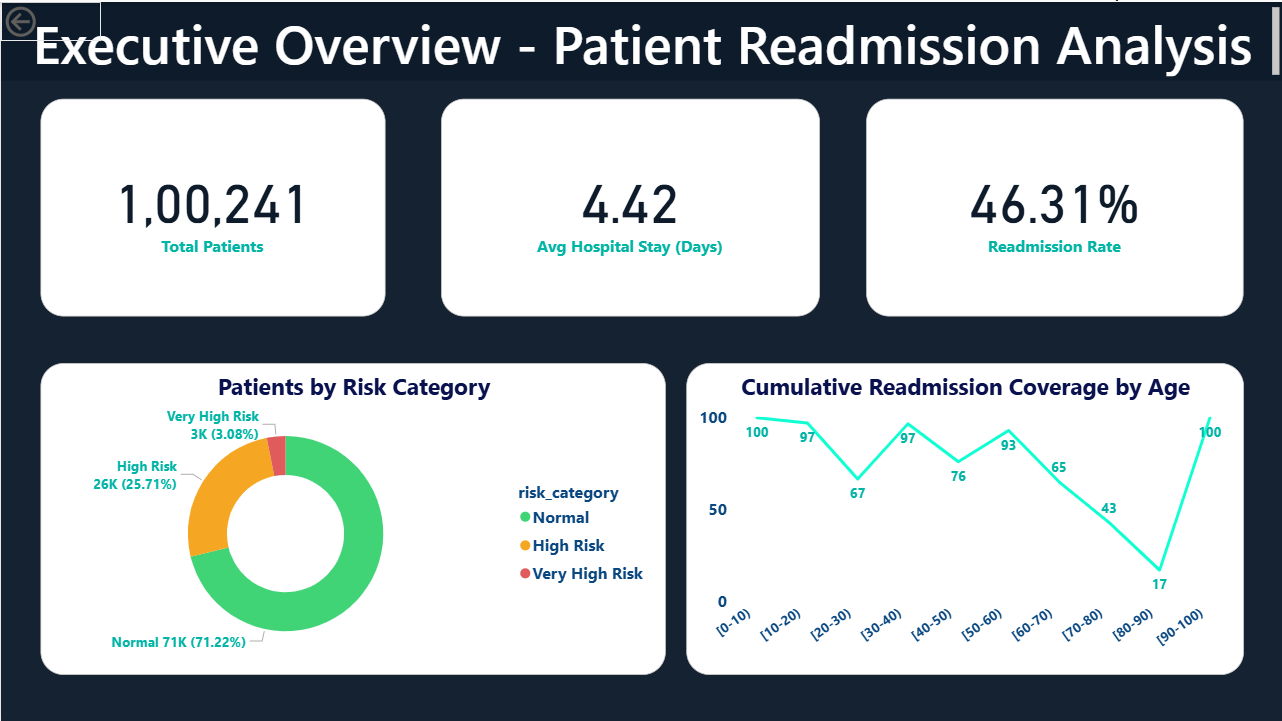

Layout of this report page (visuals, bound fields, positions):
{"tool":"powerbi","page":{"name":" Executive Overview","canvas":[1280,720],"ordinal":0},"visuals":[{"type":"card","fields":{"Values":["Avg(diabetic_data_clean.time_in_hospital)"]},"box":[439.1,96.5,377.9,217.5],"z":0},{"type":"card","fields":{"Values":["diabetic_data_clean.Readmission Rate"]},"box":[863.2,96.5,376.6,217.5],"z":1000},{"type":"card","fields":{"Values":["select","CountNonNull(diabetic_data_clean.gender)"]},"box":[39.4,96.5,343.9,217.5],"z":2000},{"type":"textbox","box":[0,0,1280.6,78.8],"z":3000},{"type":"donutChart","title":"Patients by Risk Category","fields":{"Category":["q4_risk_segmentation.risk_category"],"Y":["Sum(q4_risk_segmentation.total_patients)"]},"box":[39.4,360.2,624,311.3],"z":4000},{"type":"actionButton","box":[0,0,100,40],"z":5000},{"type":"lineChart","title":"Cumulative Readmission Coverage by Age","fields":{"Category":["q5_cumulative_age.age"],"Y":["Sum(q5_cumulative_age.cumulative_patient_pct)"]},"box":[683.8,360.2,556,311.3],"z":6000}]}

Visuals, with their boxes on the page's 1280x720 design canvas (x1, y1, x2, y2). These are canvas units, not pixel positions in the 1282x721 screenshot, which may show the page scaled, cropped or inside an application window:
card - Avg(diabetic_data_clean.time_in_hospital): 439 96 817 314
card - diabetic_data_clean.Readmission Rate: 863 96 1240 314
card - select x CountNonNull(diabetic_data_clean.gender): 39 96 383 314
textbox: 0 0 1281 79
"Patients by Risk Category" donutChart: 39 360 663 672
actionButton: 0 0 100 40
"Cumulative Readmission Coverage by Age" lineChart: 684 360 1240 672
